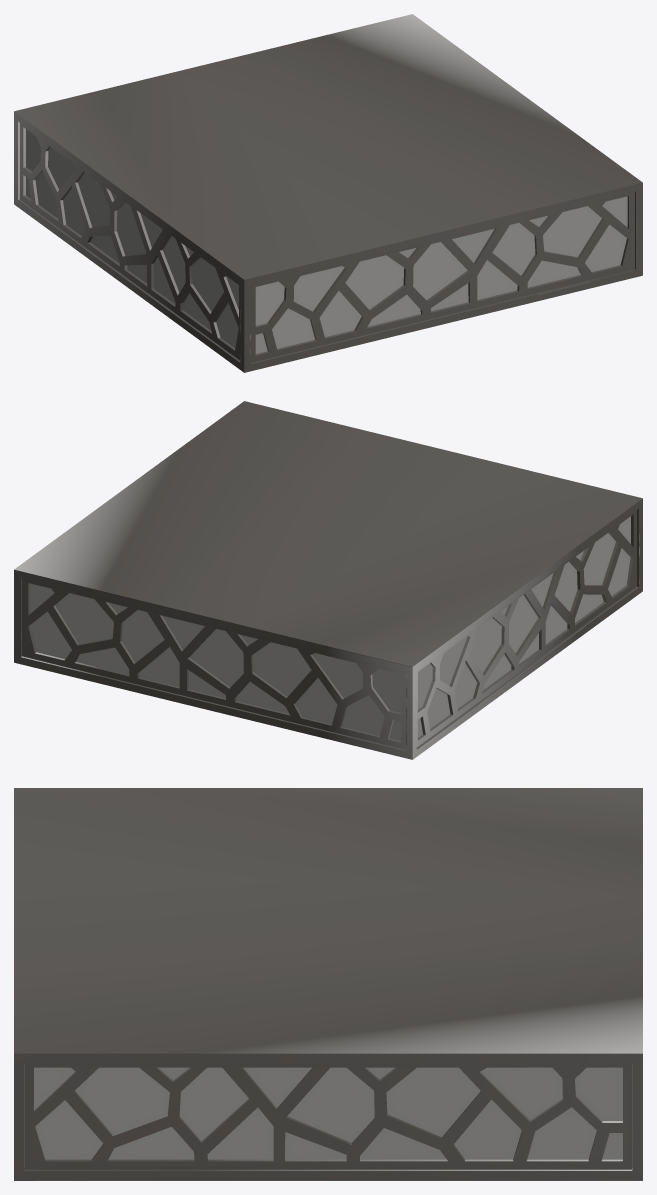
3 renders of one model, top to bottom at view 1: azimuth 30°, elevation 25°; view 2: azimuth 150°, elevation 25°; view 3: azimuth 270°, elevation 25°, orthographic. The views are drawn at different scales.
Parts seen in each view (by area): view 1: solid_001, glass_001; view 2: solid_001, glass_001; view 3: solid_001, glass_001.
Part boxes in pixels (bbox=[...]): solid_001: bbox=[14, 14, 642, 372]; glass_001: bbox=[26, 129, 627, 353]; solid_001: bbox=[14, 401, 642, 759]; glass_001: bbox=[29, 516, 630, 740]; solid_001: bbox=[14, 788, 642, 1180]; glass_001: bbox=[24, 1064, 632, 1167].
Bounding box in the file's own units: 2 × 0.4457 × 2.
1 material, 1 textured.
